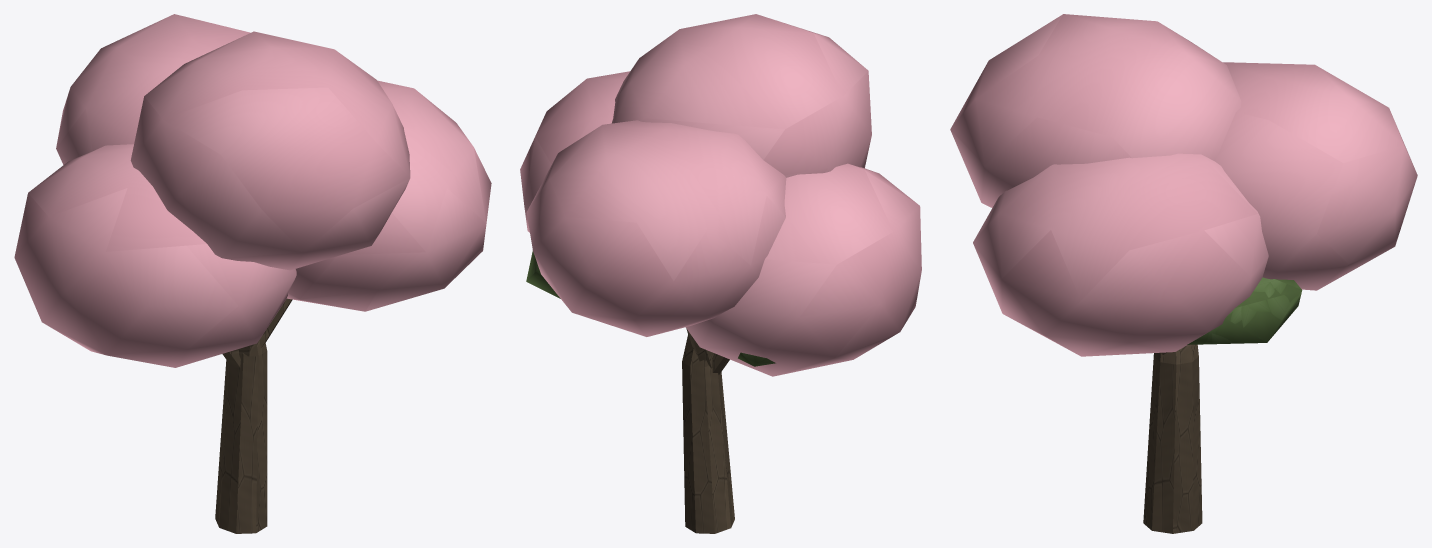
Rendered from Furn_Tree_Blossom.fbx.
3 views of the same model, side by side, from view 1: azimuth 30°, elevation 25°; view 2: azimuth 150°, elevation 25°; view 3: azimuth 270°, elevation 25° (orthographic). The views are drawn at different scales.
Parts seen in each view (by area): view 1: Furn_Tree_Blossom_Mesh; view 2: Furn_Tree_Blossom_Mesh; view 3: Furn_Tree_Blossom_Mesh.
Part boxes in pixels (box(x1,y1,x2,y2)): Furn_Tree_Blossom_Mesh: box(14, 14, 491, 533); Furn_Tree_Blossom_Mesh: box(520, 14, 921, 533); Furn_Tree_Blossom_Mesh: box(950, 14, 1417, 533).
Bounding box in the file's own units: 3 × 3.5 × 3.
3 materials, 3 textured.
